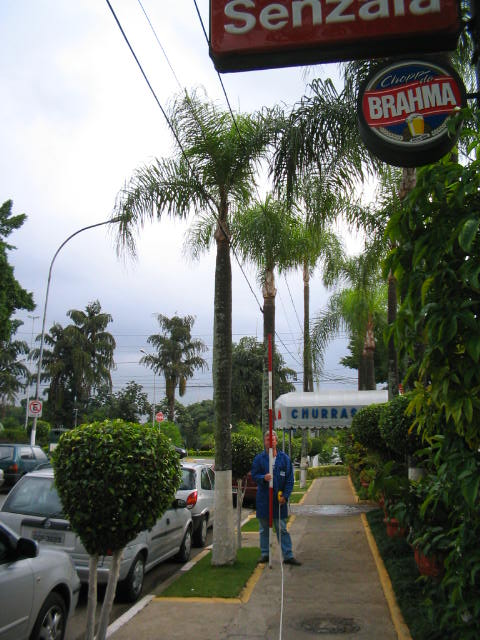crown: (115, 83, 289, 260)
stem: (199, 248, 247, 567)
stick: (261, 333, 282, 570)
tree: (112, 83, 291, 567)
